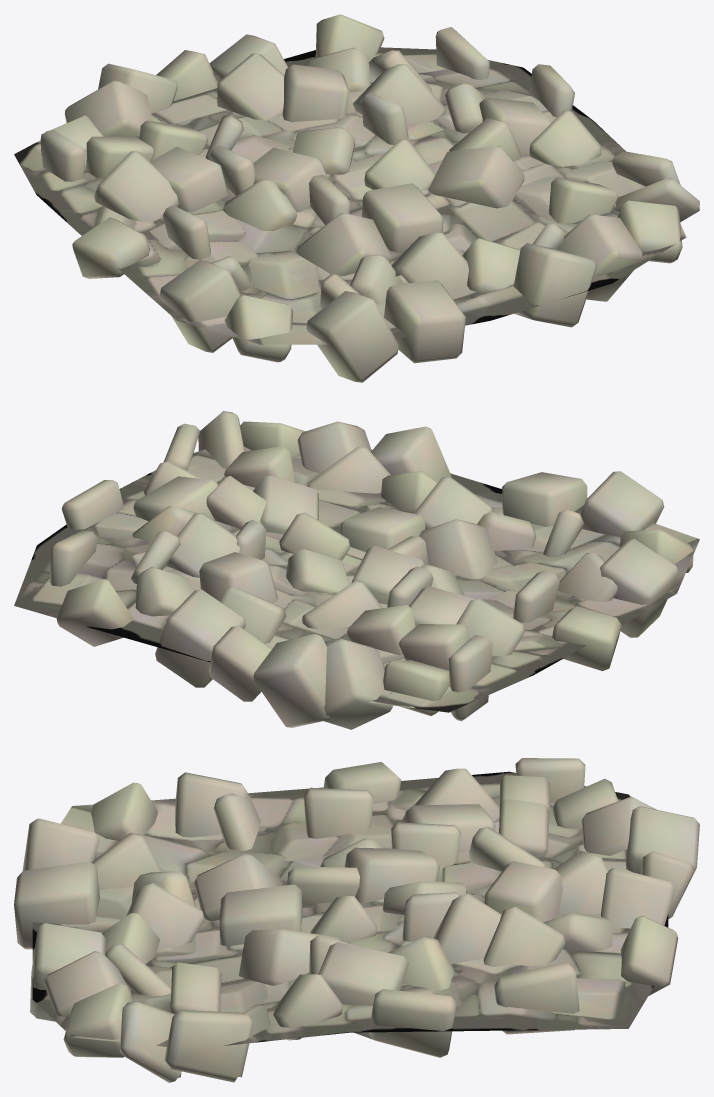
File: SM_Ingredients_01e.fbx
The picture shows the model from 3 angles, top to bottom: view 1: azimuth 30°, elevation 25°; view 2: azimuth 150°, elevation 25°; view 3: azimuth 270°, elevation 25°; orthographic projection. The views are drawn at different scales.
Visible parts, largest first — view 1: SM_Ingredients_01e_LOD0; view 2: SM_Ingredients_01e_LOD0; view 3: SM_Ingredients_01e_LOD0.
Boxes of the visible parts, x1=… form: SM_Ingredients_01e_LOD0: x1=14, y1=14, x2=699, y2=382; SM_Ingredients_01e_LOD0: x1=14, y1=411, x2=699, y2=729; SM_Ingredients_01e_LOD0: x1=14, y1=758, x2=699, y2=1082.
Size of the model in its own units: 21.65 by 21.81 by 5.14.
